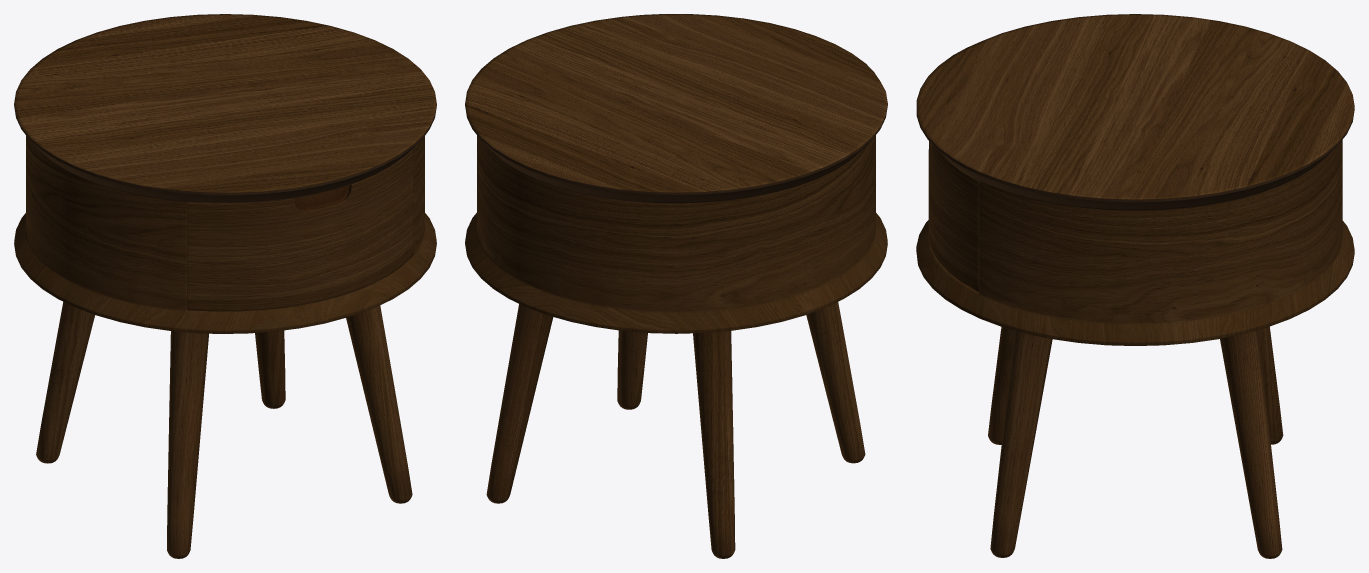
The model's file is table-1.glb.
The picture shows the model from 3 angles, left to right: view 1: azimuth 30°, elevation 25°; view 2: azimuth 150°, elevation 25°; view 3: azimuth 270°, elevation 25°; orthographic projection. The views are drawn at different scales.
Parts seen in each view (by area): view 1: TPWT2533__IWOBSWNT_002, TPWT2533__IWOBSWNT_001; view 2: TPWT2533__IWOBSWNT_002, TPWT2533__IWOBSWNT_001; view 3: TPWT2533__IWOBSWNT_002, TPWT2533__IWOBSWNT_001.
Part boxes in pixels (x1,y1,x2,y2): TPWT2533__IWOBSWNT_002: [14, 14, 436, 333]; TPWT2533__IWOBSWNT_001: [36, 148, 413, 558]; TPWT2533__IWOBSWNT_002: [465, 14, 887, 333]; TPWT2533__IWOBSWNT_001: [486, 302, 865, 558]; TPWT2533__IWOBSWNT_002: [916, 14, 1354, 345]; TPWT2533__IWOBSWNT_001: [928, 141, 1283, 558].
Size of the model in its own units: 0.4986 by 0.4932 by 0.4985.
Materials: 2 (2 with a texture image).
